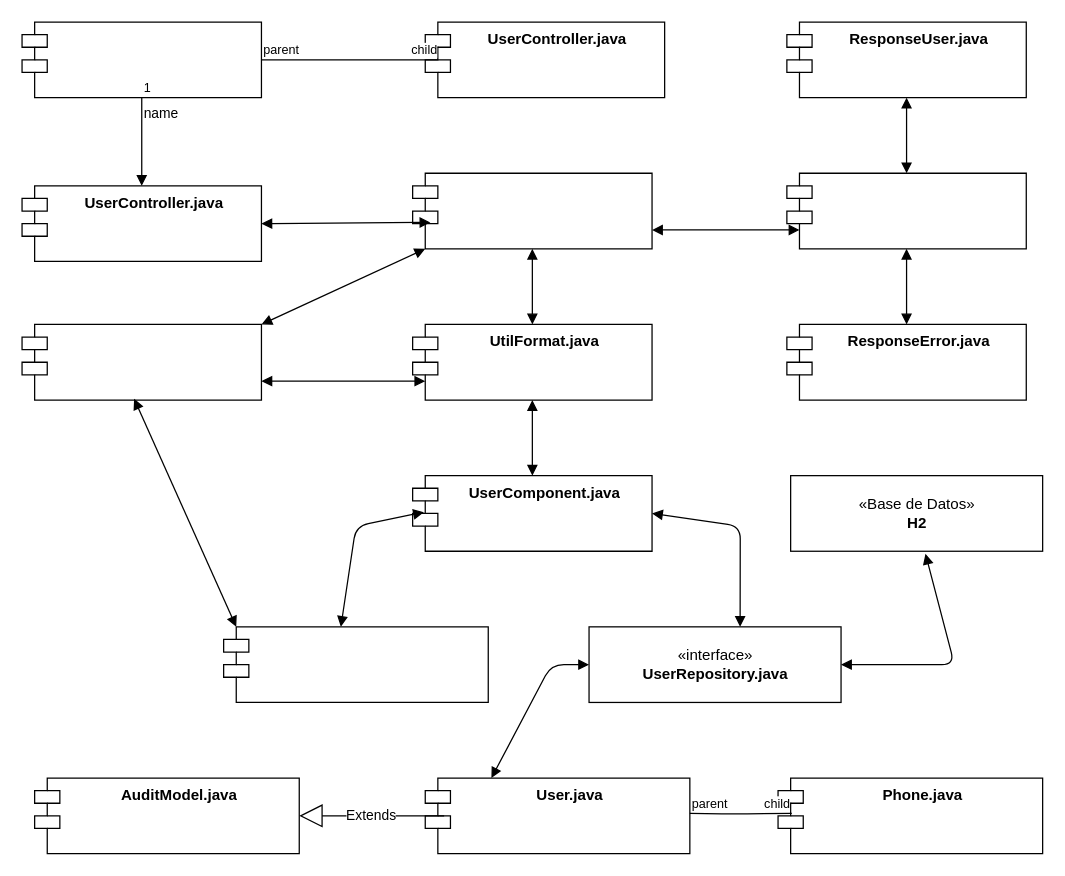
Image size: 1065x876. Some labels were removed from this diagram. Here are the shapes that lost their labels. From the top down, the centre of each, then its label:
the point at 141,59: RequestUser.java
the point at 531,210: UserService.java
the point at 906,210: GenericResponse.java
the point at 141,361: Constants.java
the point at 355,664: TokenJWTComponent.java
